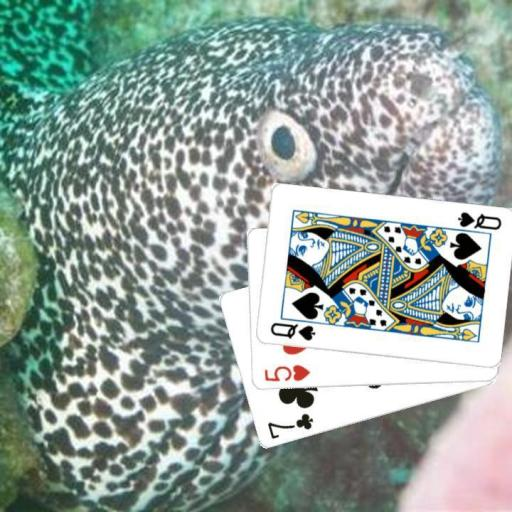card-corner: (264, 410, 314, 441), (454, 208, 502, 232), (266, 320, 316, 343), (260, 362, 312, 384)
